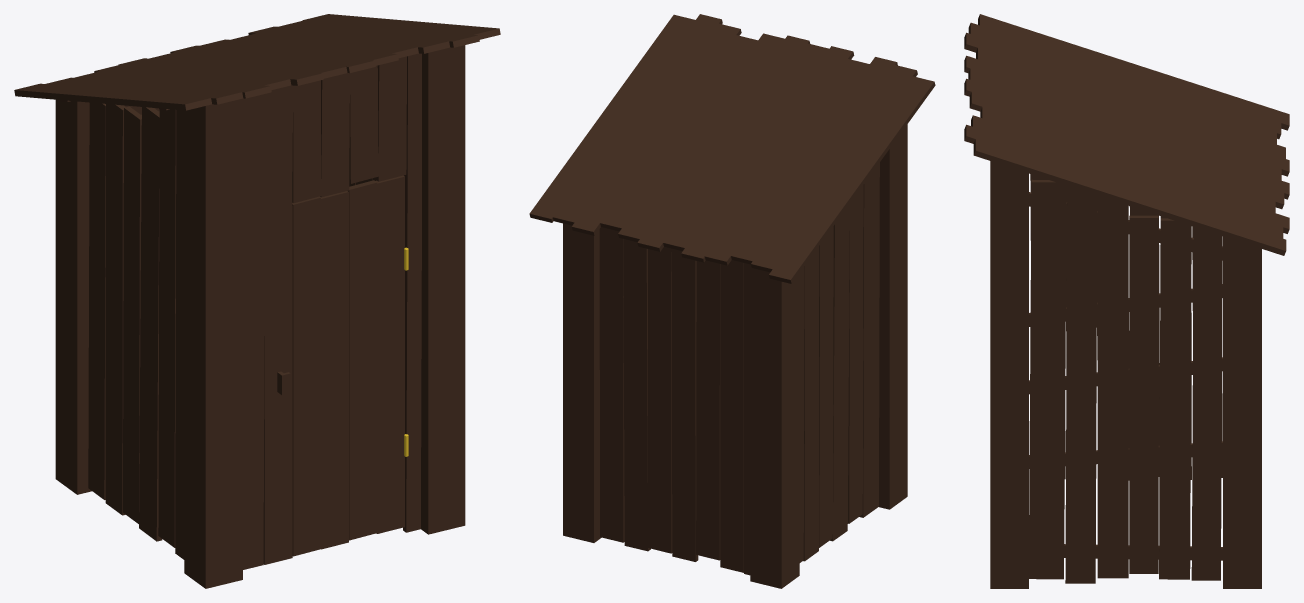
The model's file is Huussi.fbx.
3 views of the same model, side by side, from view 1: azimuth 30°, elevation 25°; view 2: azimuth 150°, elevation 25°; view 3: azimuth 270°, elevation 25° (orthographic). The views are drawn at different scales.
Parts seen in each view (by area): view 1: Huussi; view 2: Huussi; view 3: Huussi.
Boxes of the visible parts, left/top/right/bottom form: Huussi: left=14, top=14, right=500, bottom=588; Huussi: left=529, top=14, right=935, bottom=588; Huussi: left=964, top=14, right=1289, bottom=588.
Bounding box in the file's own units: 168 × 258 × 168.
